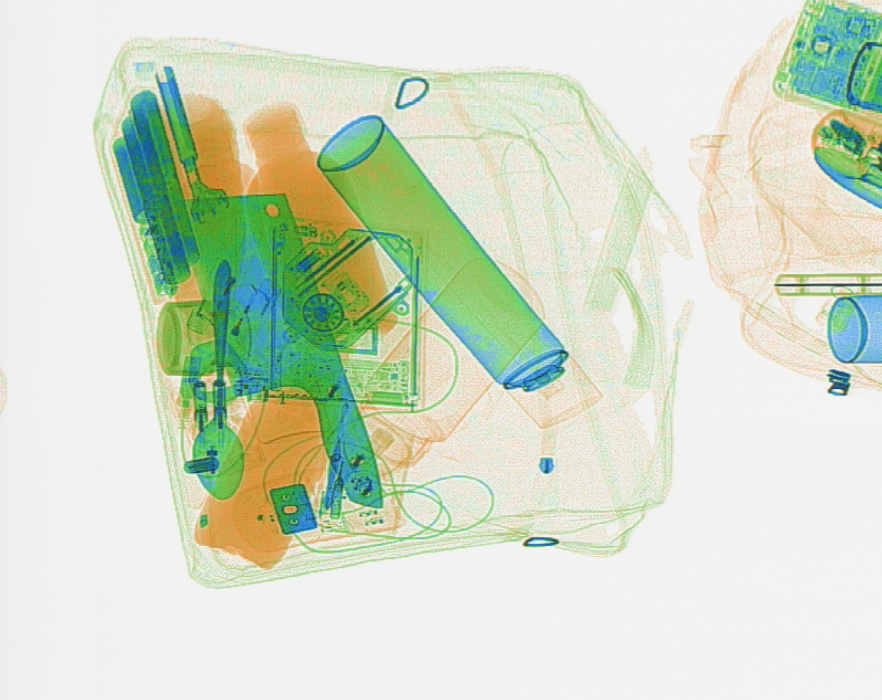knife: (181, 189, 385, 511)
powerbank: (109, 88, 199, 292)
pressure: (315, 112, 605, 429)
